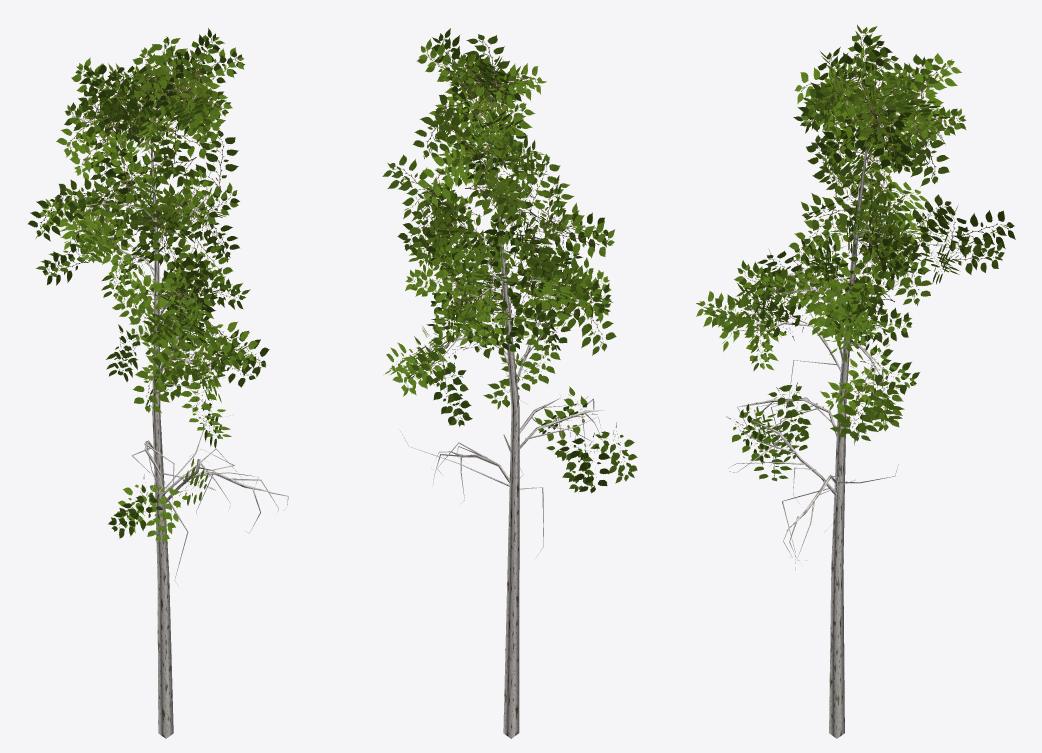
Rendered from birch_tree_0_lod2.gltf.
3 renders of one model, left to right at view 1: azimuth 30°, elevation 25°; view 2: azimuth 150°, elevation 25°; view 3: azimuth 270°, elevation 25°, orthographic. The views are drawn at different scales.
Visible parts, largest first — view 1: birch_tree_0_lod2; view 2: birch_tree_0_lod2; view 3: birch_tree_0_lod2.
Part boxes in pixels (box(x1,y1,x2,y2)): birch_tree_0_lod2: box(27, 28, 288, 738); birch_tree_0_lod2: box(382, 28, 637, 738); birch_tree_0_lod2: box(696, 24, 1015, 738).
Size of the model in its own units: 3.65 by 8.81 by 3.86.
2 materials, 2 textured.
